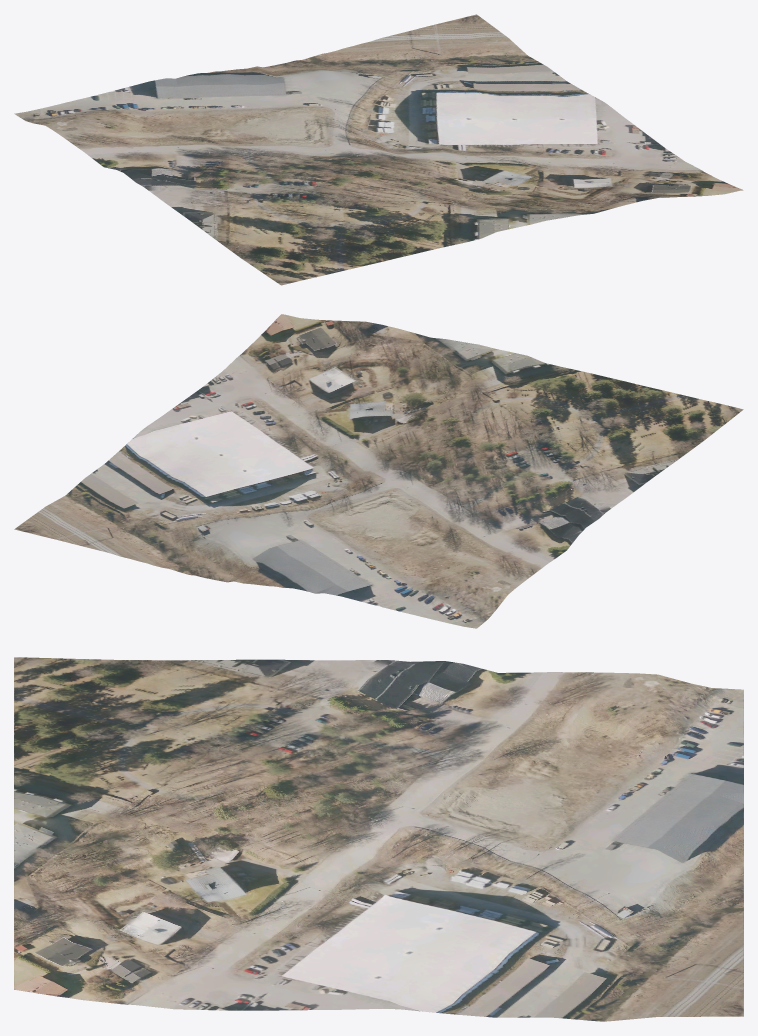
Rendered from CM_Terrain_24491687_6819589.fbx.
The picture shows the model from 3 angles, top to bottom: view 1: azimuth 30°, elevation 25°; view 2: azimuth 150°, elevation 25°; view 3: azimuth 270°, elevation 25°; orthographic projection. The views are drawn at different scales.
Visible parts, largest first — view 1: CM_Terrain_24491687_6819589_LOD0; view 2: CM_Terrain_24491687_6819589_LOD0; view 3: CM_Terrain_24491687_6819589_LOD0.
Boxes of the visible parts, x1,y1,x2,y2 form: CM_Terrain_24491687_6819589_LOD0: [14, 14, 743, 285]; CM_Terrain_24491687_6819589_LOD0: [14, 314, 743, 628]; CM_Terrain_24491687_6819589_LOD0: [14, 657, 743, 1021].
Size of what is drawn, in the model's own units: 205 by 18.19 by 205.
